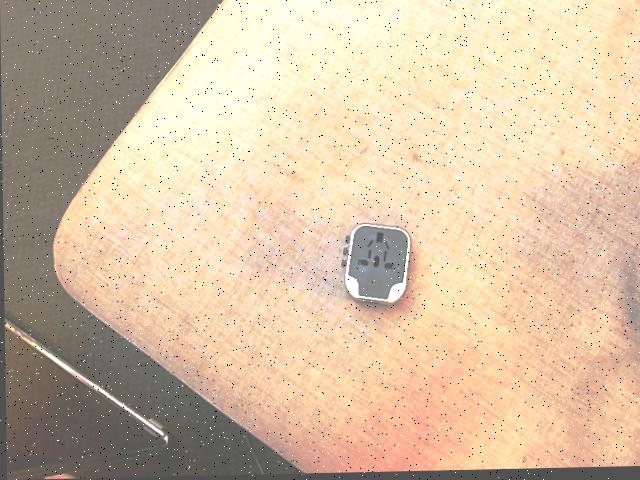adapter: (340, 222, 411, 307)
